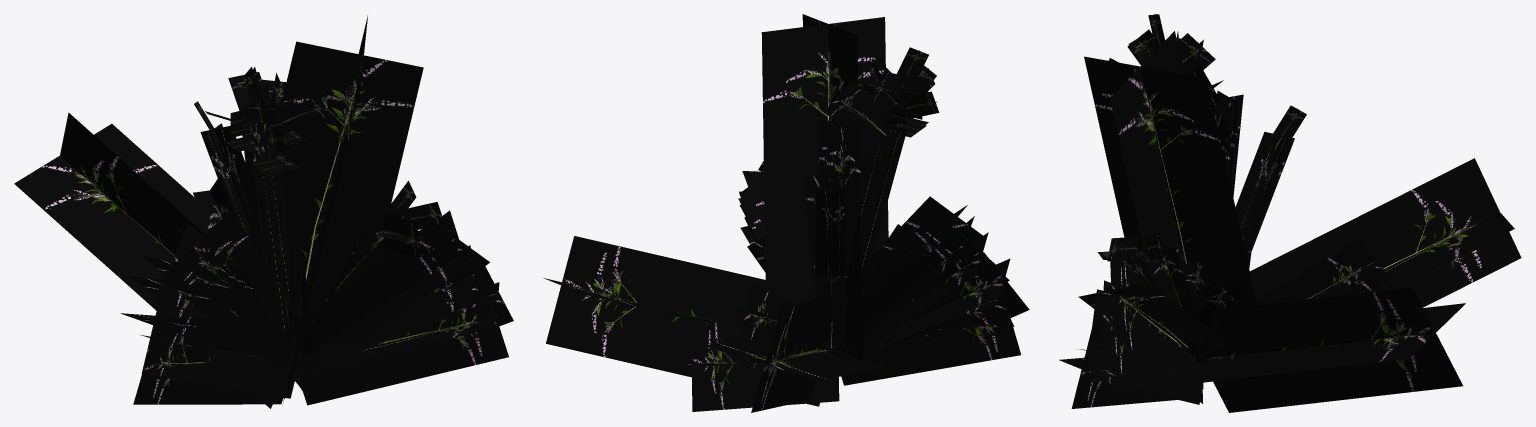
File: butterfly_spring_summer.glb
3 views of the same model, side by side, from view 1: azimuth 30°, elevation 25°; view 2: azimuth 150°, elevation 25°; view 3: azimuth 270°, elevation 25° (orthographic). The views are drawn at different scales.
Parts seen in each view (by area): view 1: 2_Leaves, 1_Trunk; view 2: 2_Leaves; view 3: 2_Leaves.
Part boxes in pixels (x1,y1,x2,y2): 2_Leaves: (14,15,513,408); 1_Trunk: (220,123,383,325); 2_Leaves: (543,14,1029,412); 2_Leaves: (1059,14,1521,412).
Size of the model in its own units: 43.74 by 40.79 by 45.58.
1 material, 1 textured.
